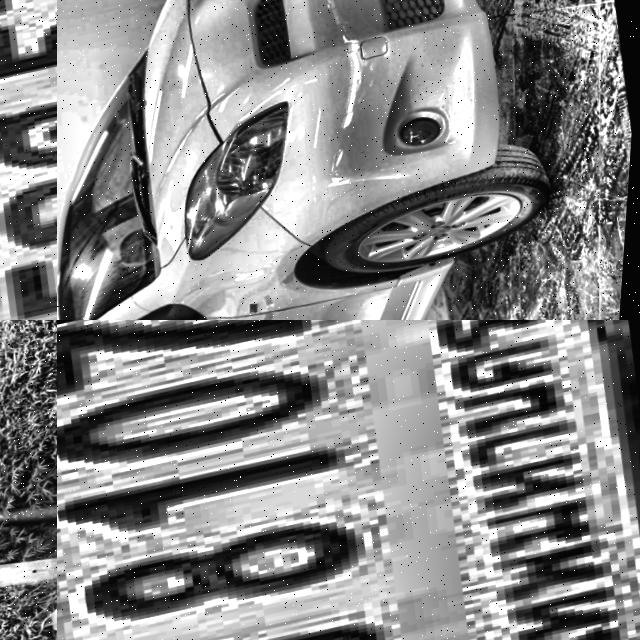license-plate: (57, 320, 640, 640), (0, 0, 57, 320)
